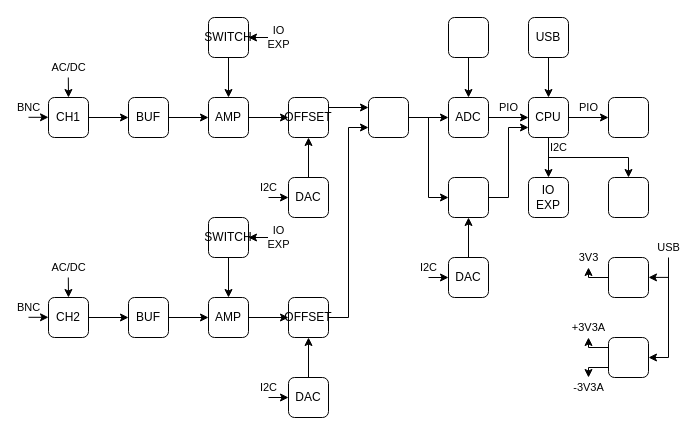
Image size: 697x435. Some labels were removed from this diagram. The centre of each missing label's shape, as x and y in pixels:
LCD: the point at 628,117
MUX: the point at 388,117
PSU ANA: the point at 628,357
PSU DIG: the point at 628,277
REF: the point at 468,37
TRIG: the point at 468,197
TSC: the point at 628,197
